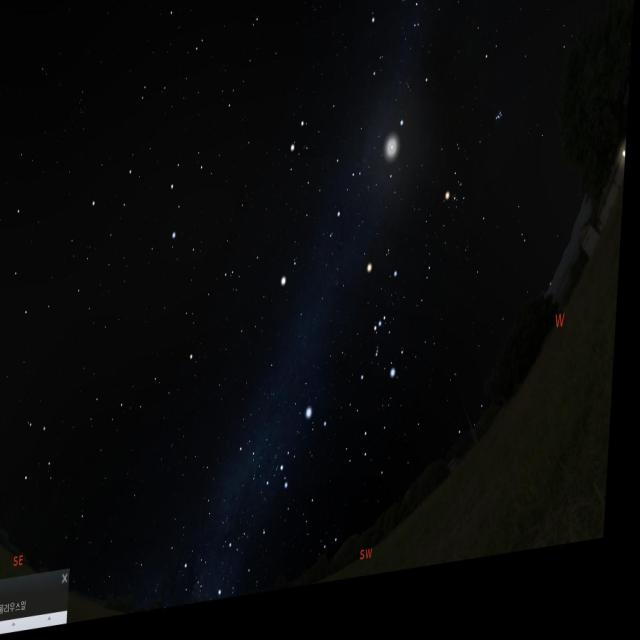canis_major: (274, 402, 342, 509)
canis_minor: (280, 258, 313, 314)
gemini: (275, 109, 380, 264)
leo: (88, 134, 224, 268)
moon: (377, 128, 414, 196)
orion: (358, 257, 416, 406)
pleiades: (493, 126, 511, 150)
taurus: (434, 96, 522, 242)
